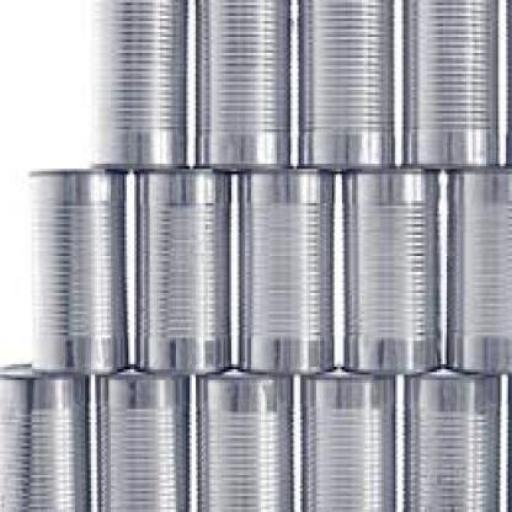metal: (340, 166, 439, 369), (27, 169, 127, 369), (133, 166, 229, 372), (238, 166, 332, 369), (194, 0, 288, 166), (298, 0, 392, 166), (401, 0, 496, 164), (93, 0, 185, 164), (94, 364, 190, 510), (403, 366, 497, 510), (301, 366, 393, 510), (445, 166, 510, 369), (198, 366, 288, 510), (0, 361, 87, 509)
